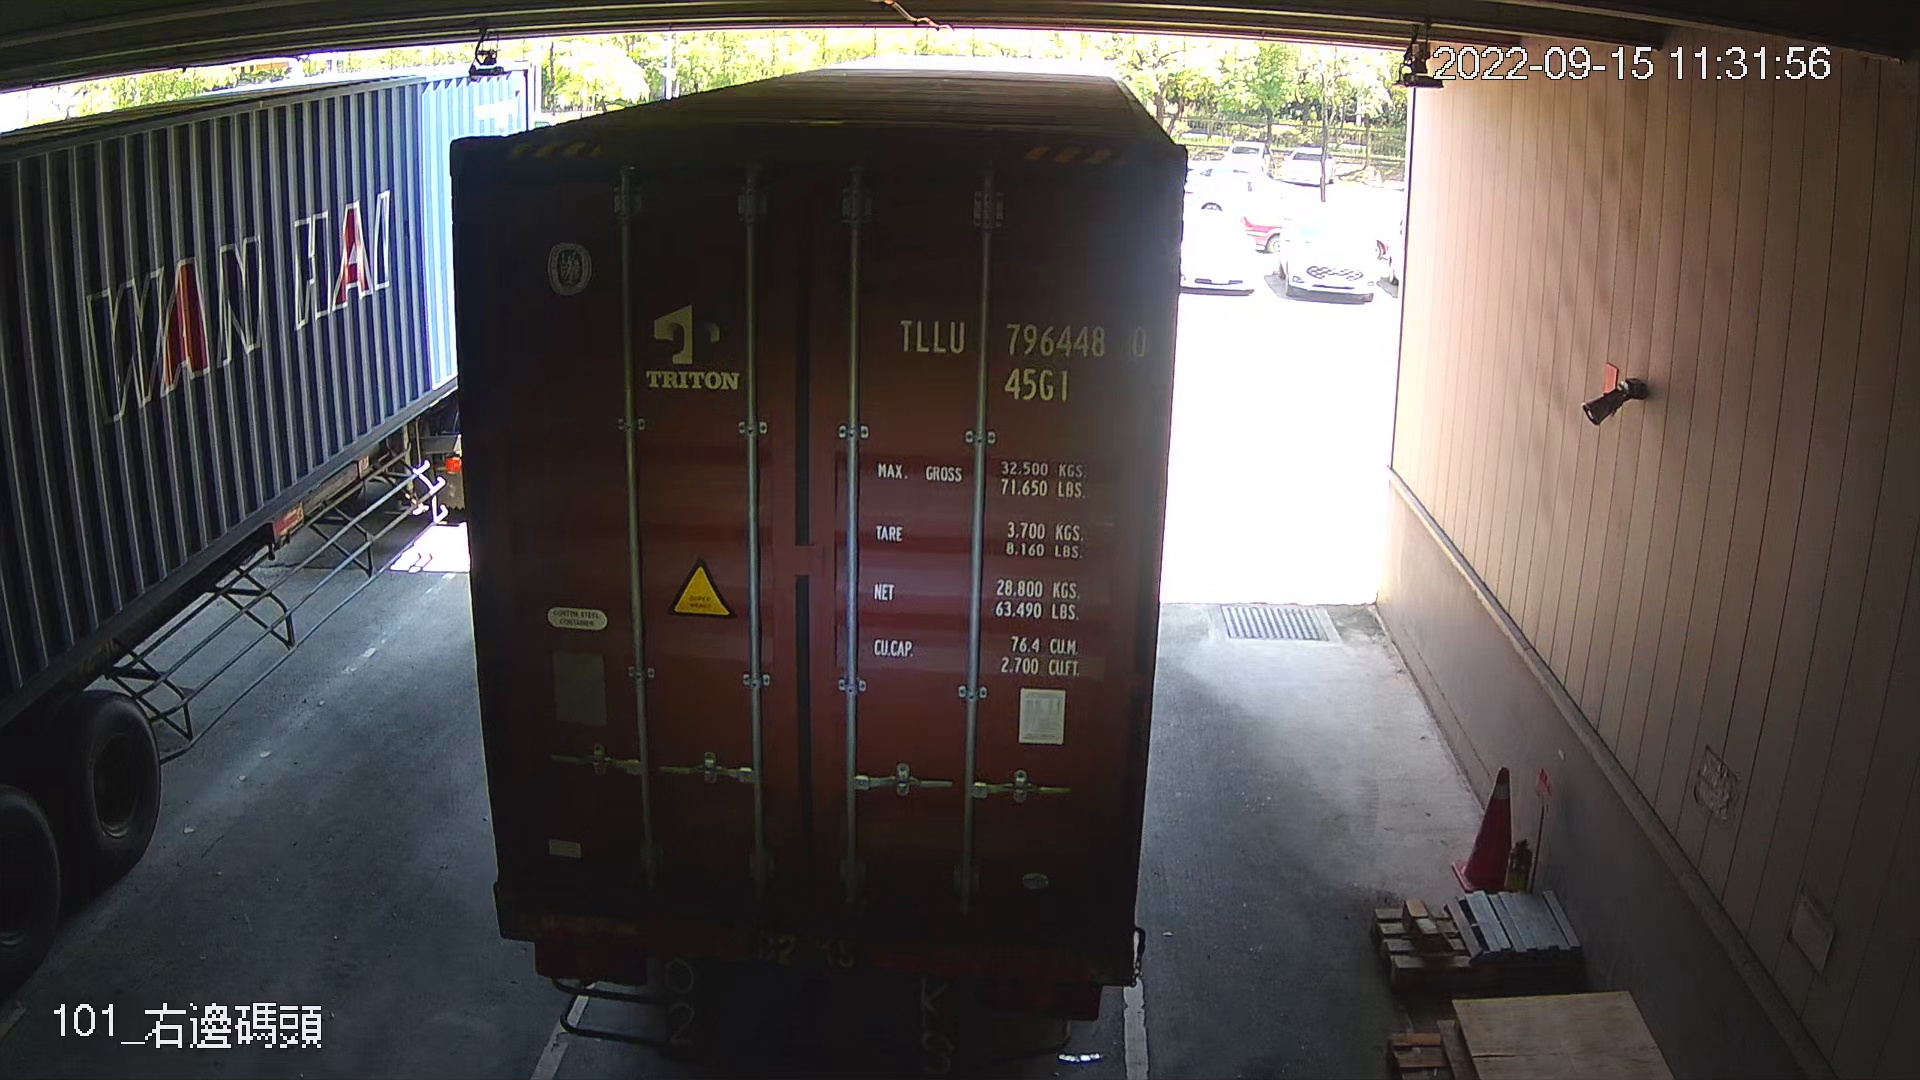container: (887, 305, 1151, 410)
